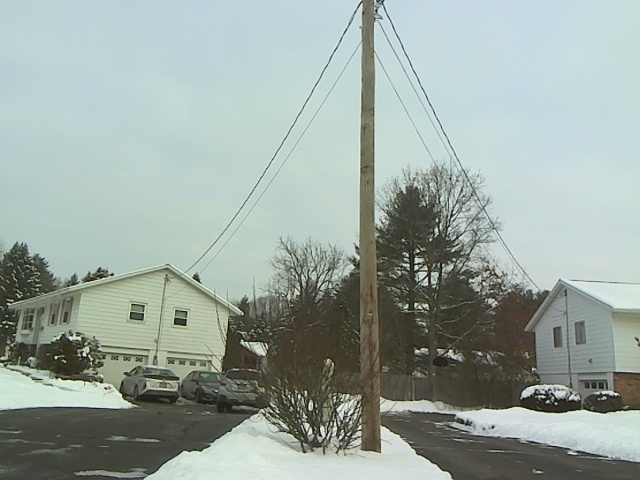Ploughed: (5, 395, 222, 475), (390, 410, 616, 477)
